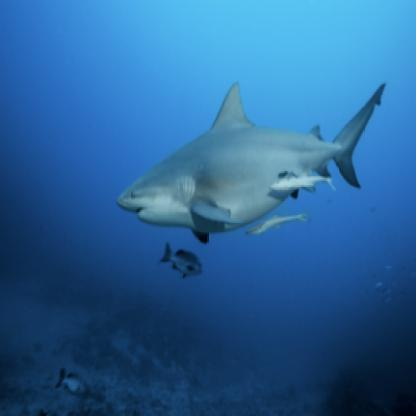Shark -Selachimorpha-: (110, 62, 392, 257)
